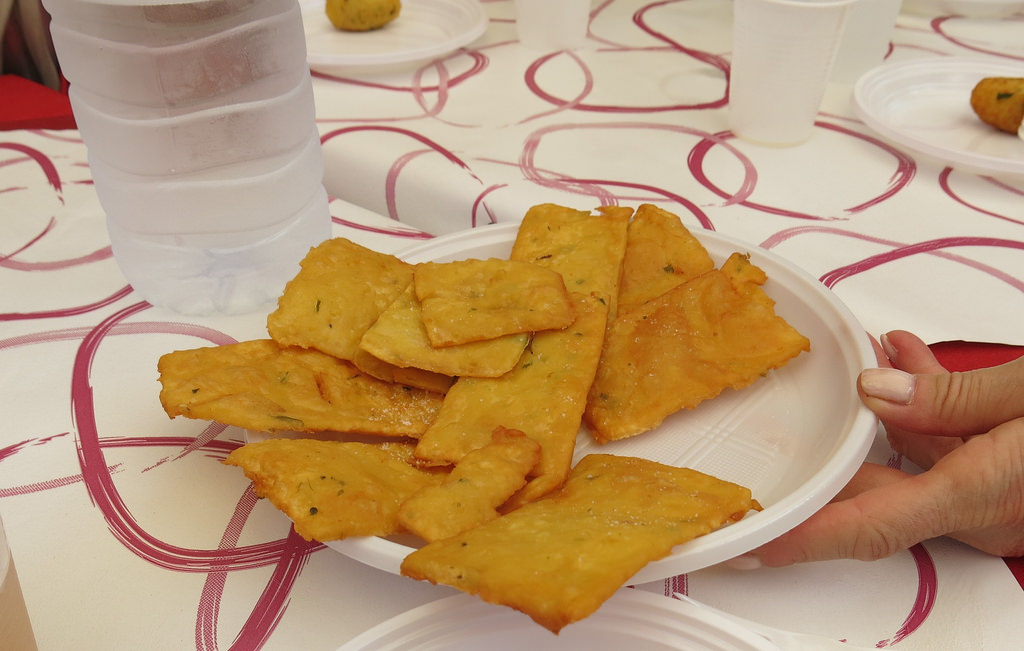glass of water: (63, 12, 286, 330)
slice of bread: (317, 250, 424, 345)
